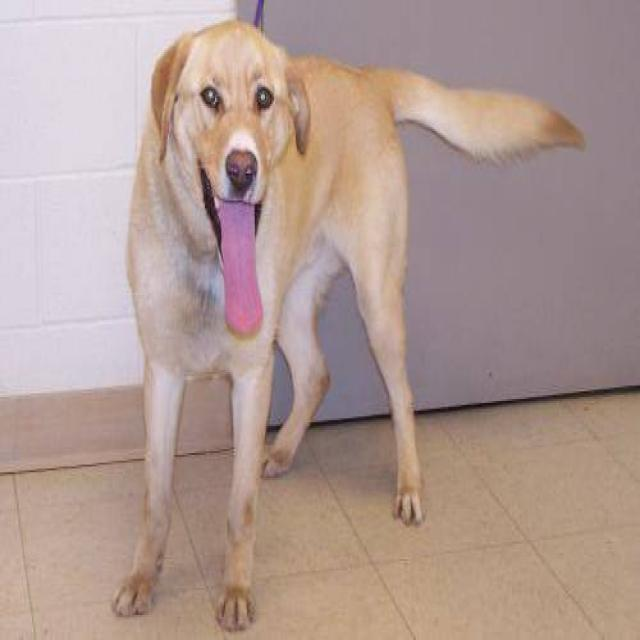Dog: (132, 13, 319, 364)
